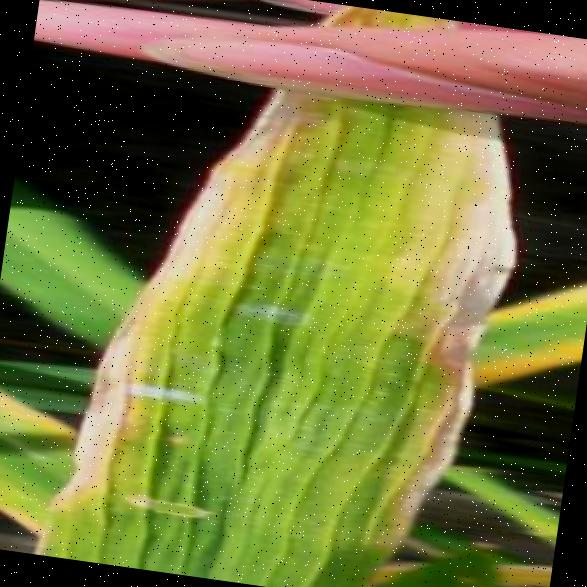Bacteria_Leaf_Blight: (102, 70, 529, 587)
